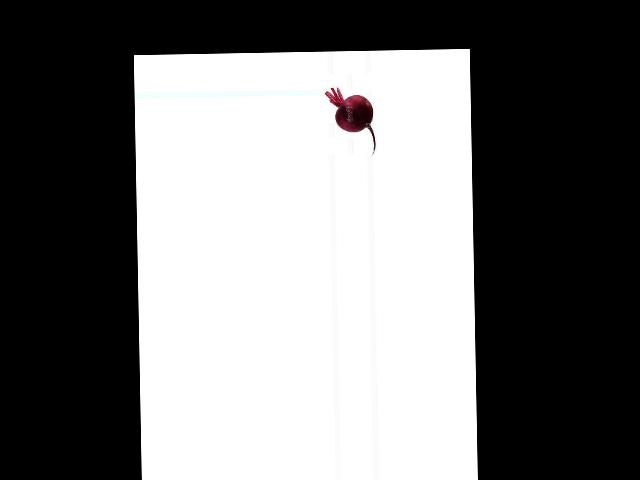beet: (325, 86, 375, 156)
